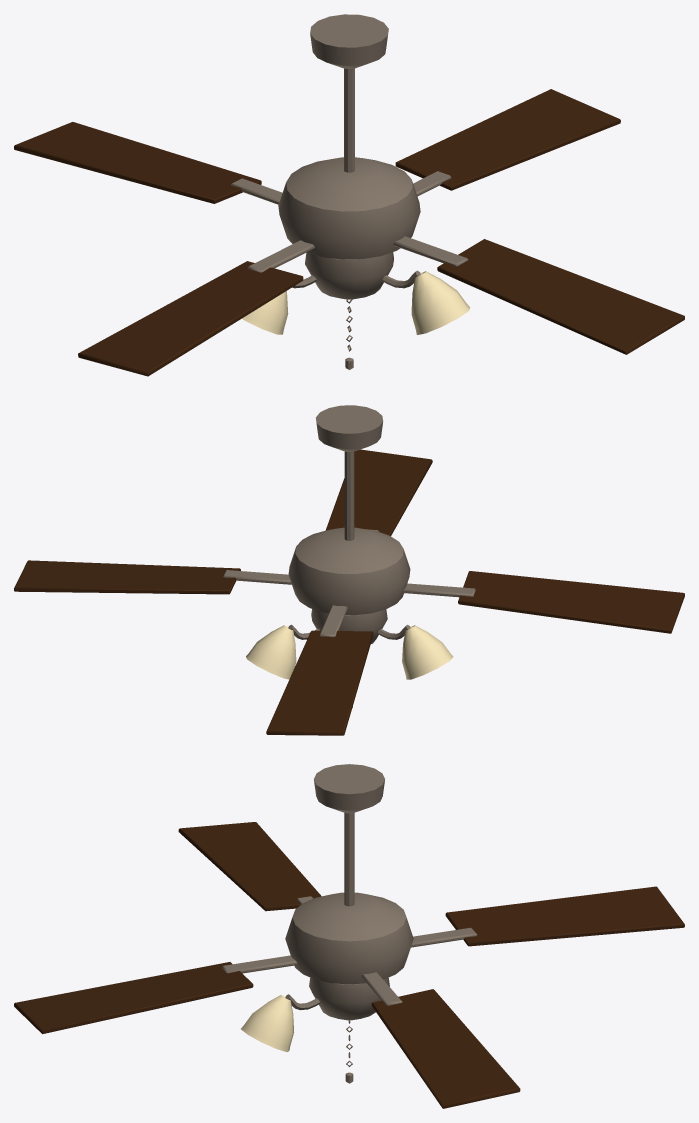
Rendered from FX_CeilingFan.fbx.
3 views of the same model, one above another, from view 1: azimuth 30°, elevation 25°; view 2: azimuth 150°, elevation 25°; view 3: azimuth 270°, elevation 25° (orthographic). The views are drawn at different scales.
Parts seen in each view (by area): view 1: FX_CeilingFan, FX_CeilingFan_Emissive; view 2: FX_CeilingFan, FX_CeilingFan_Emissive; view 3: FX_CeilingFan, FX_CeilingFan_Emissive.
Boxes of the visible parts, x1,y1,x2,y2 form: FX_CeilingFan: (14,14,684,376); FX_CeilingFan_Emissive: (242,271,470,334); FX_CeilingFan: (14,405,684,735); FX_CeilingFan_Emissive: (246,625,453,679); FX_CeilingFan: (14,764,684,1108); FX_CeilingFan_Emissive: (241,995,293,1051).
Bounding box in the file's own units: 1.41 × 0.706 × 1.41.
